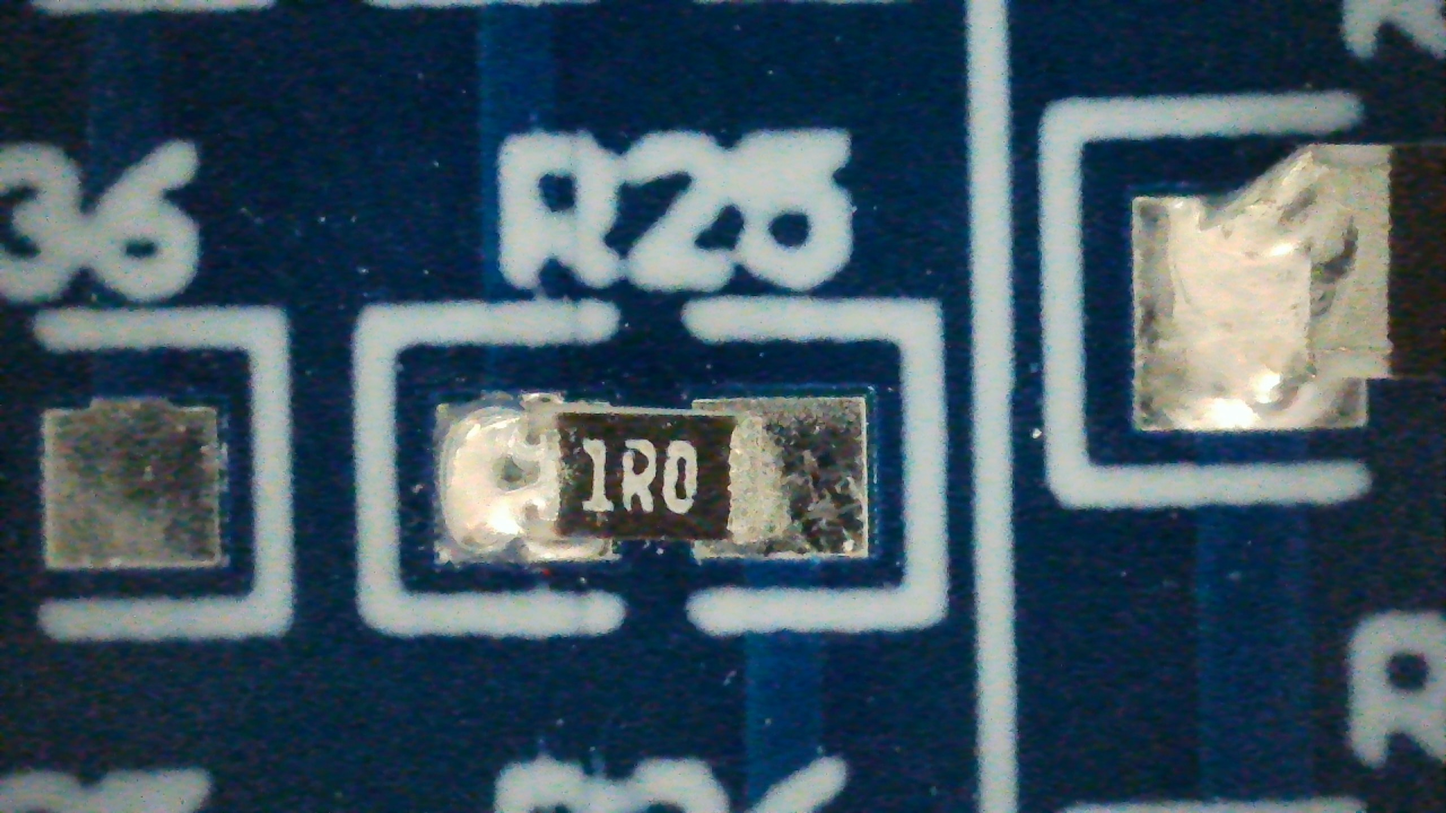NG: (437, 398, 866, 562)
